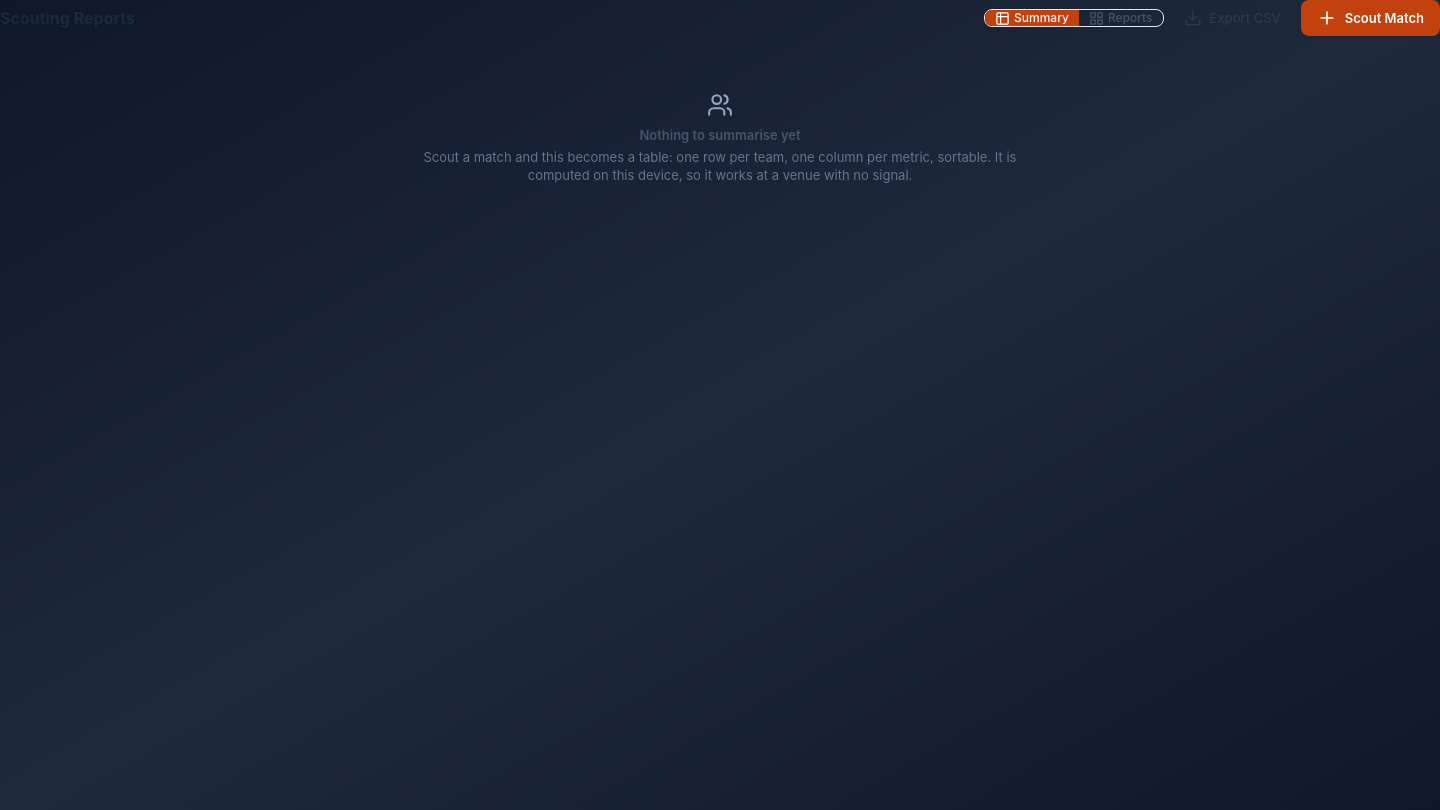
ScoutingReports › shows empty state when no reports
Click the button with test id "scout-view-cards": (1121,18) left=1079, top=10, right=1162, bottom=26
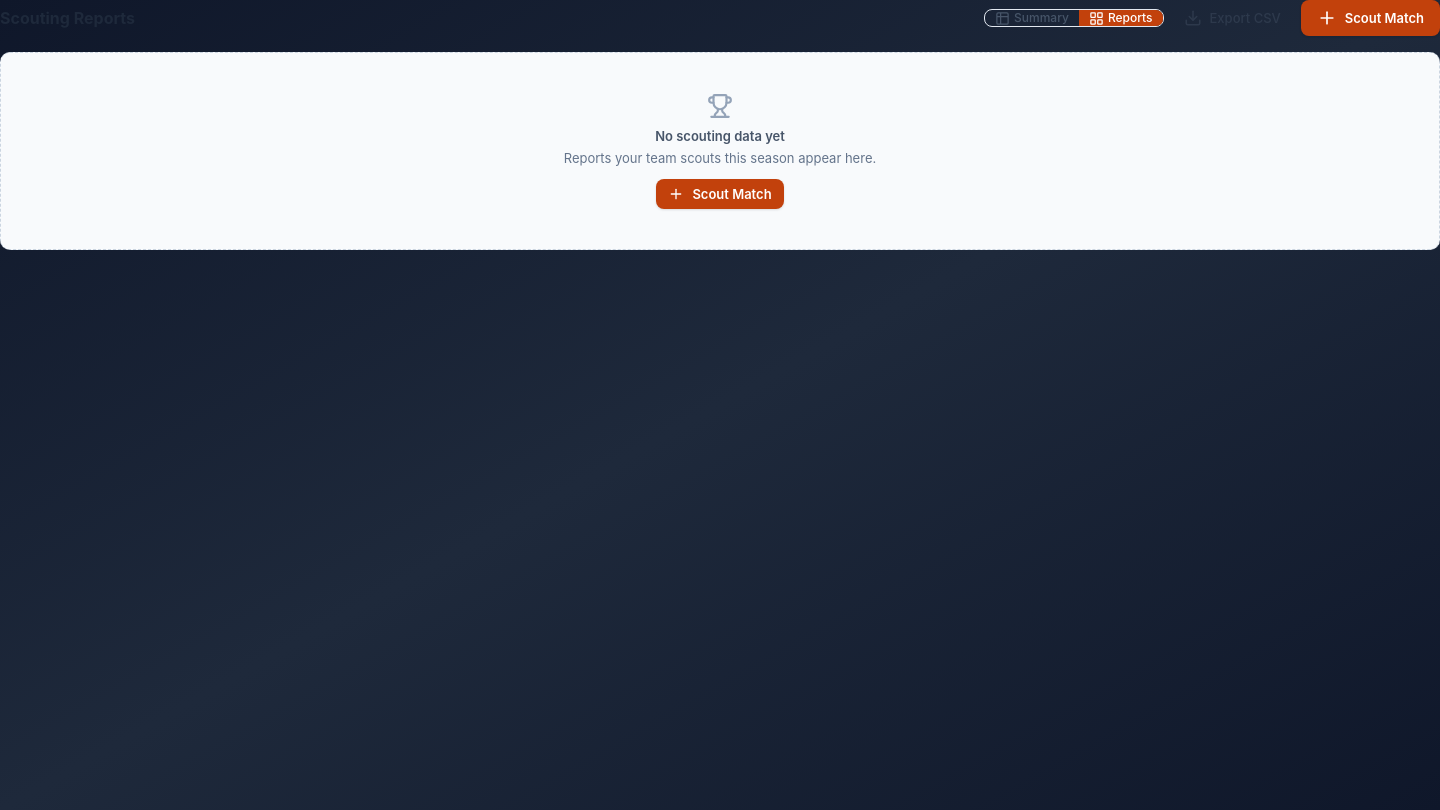
Expected: the heading "No scouting data yet" is shown, left=655, top=128, right=785, bottom=144
